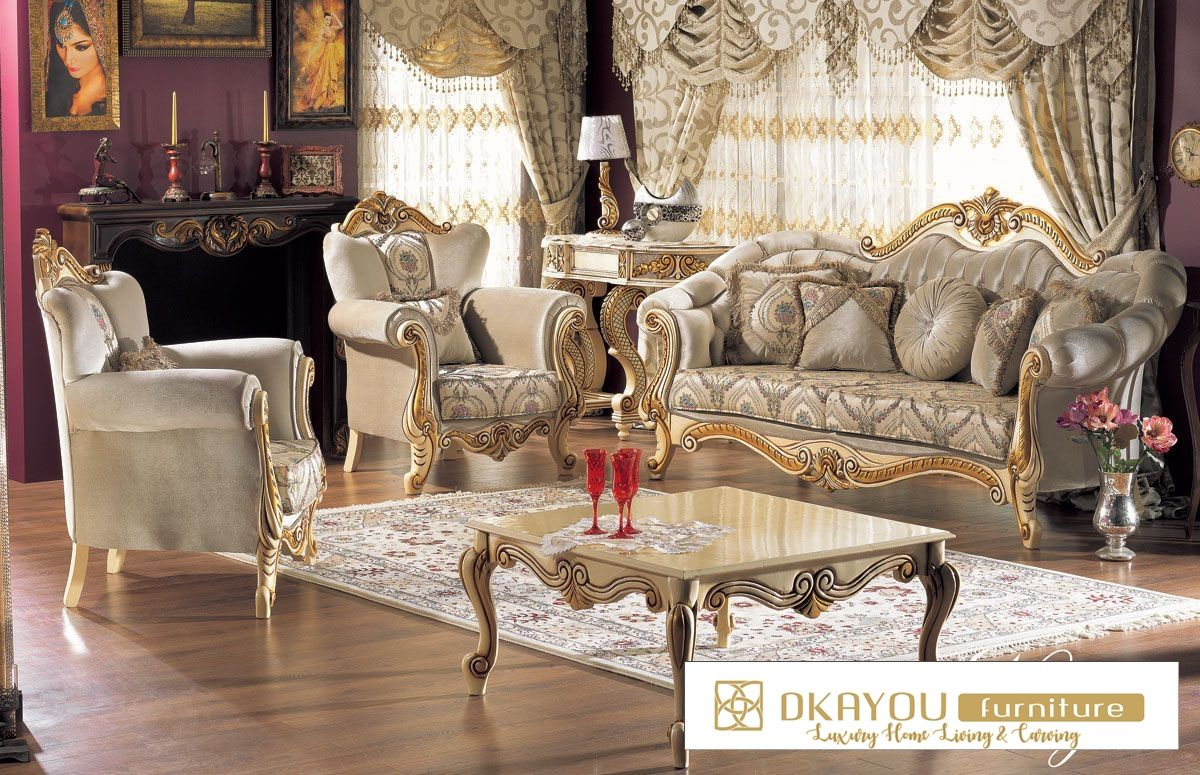bantal: (733, 266, 841, 363), (798, 278, 896, 374), (973, 295, 1018, 392), (428, 293, 475, 366)
gelas: (612, 445, 640, 531), (581, 448, 603, 535)
jam dinding: (1168, 121, 1200, 193)
kursi: (31, 238, 321, 616), (321, 189, 588, 460), (1066, 397, 1171, 579)
lampu: (576, 112, 631, 225)
meja: (448, 481, 977, 667)
sova: (646, 230, 1185, 463)
